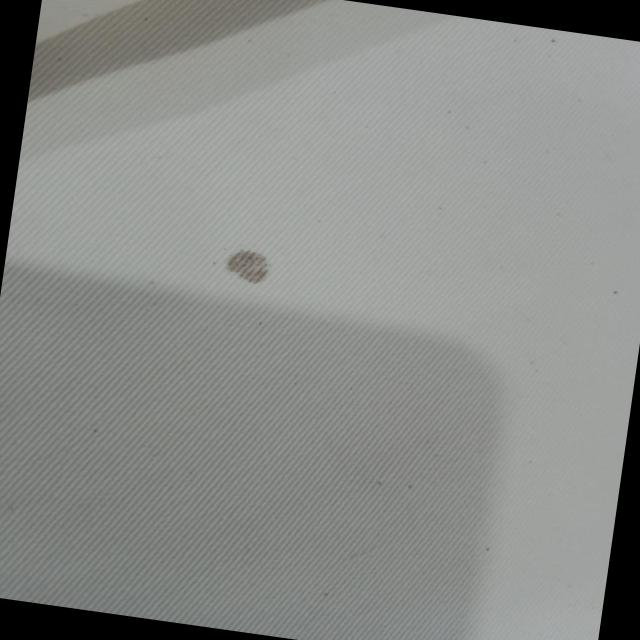stain: (211, 239, 289, 299)
